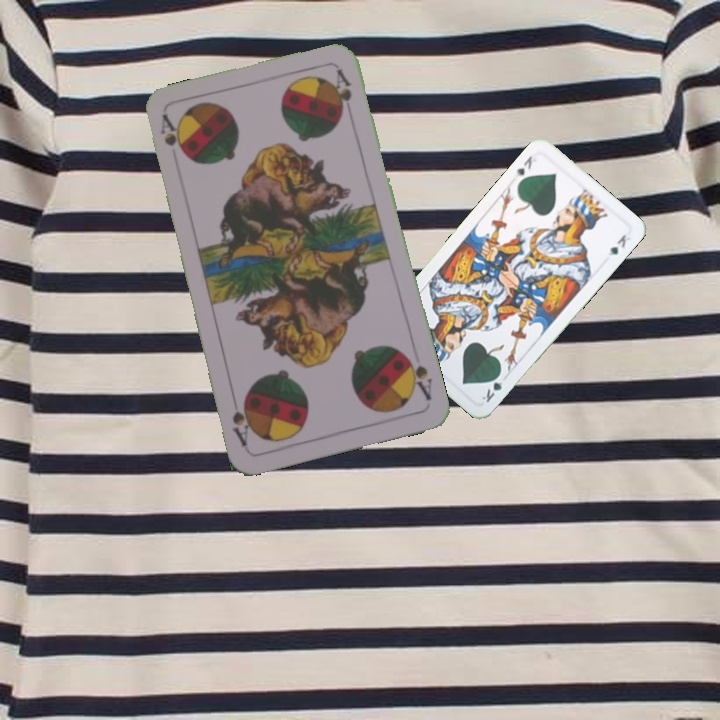GK: (478, 368, 507, 405), (510, 151, 535, 180)
SA: (400, 349, 435, 403), (156, 110, 185, 157)
